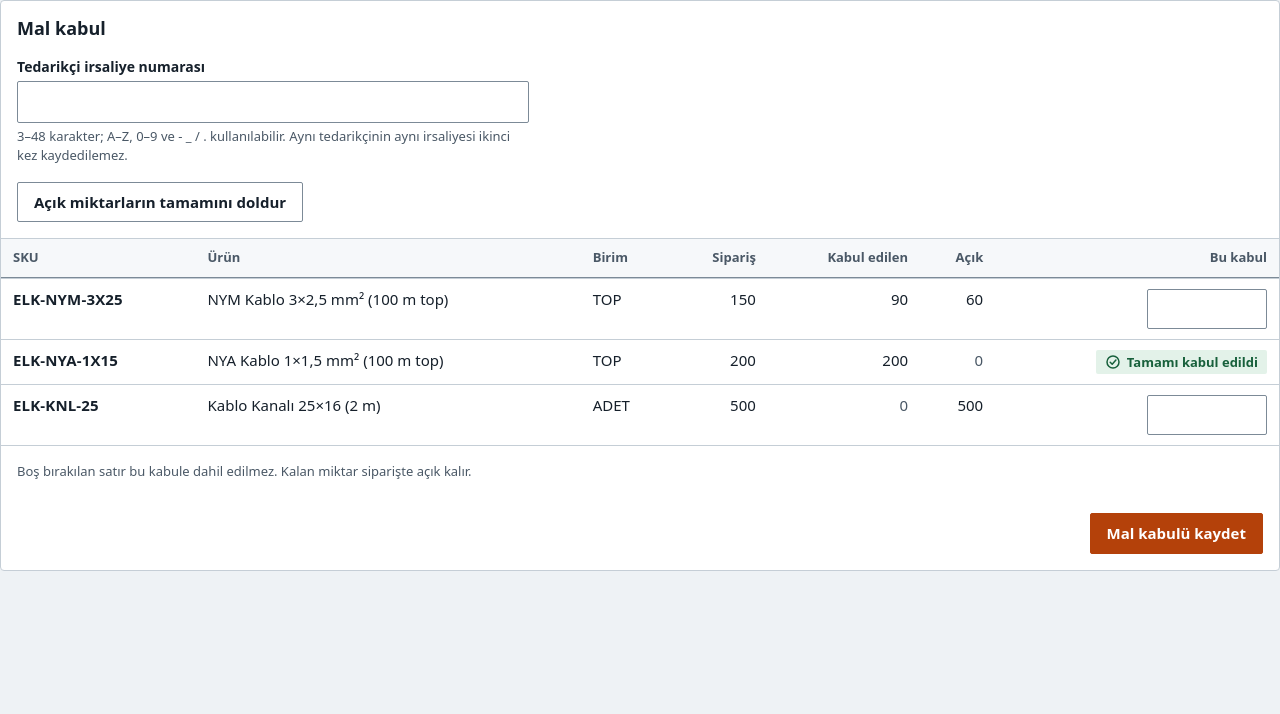
Test: mal kabul formu › sunucunun 409 exceeds_remaining yanıtını ilgili satıra eşler ve siparişi yeniden okutur
The image size is (1280, 714).
Type "AK-2026-12044" into the field labelled "Tedarikçi irsaliye numarası" at (273, 102), box [17, 80, 529, 122]
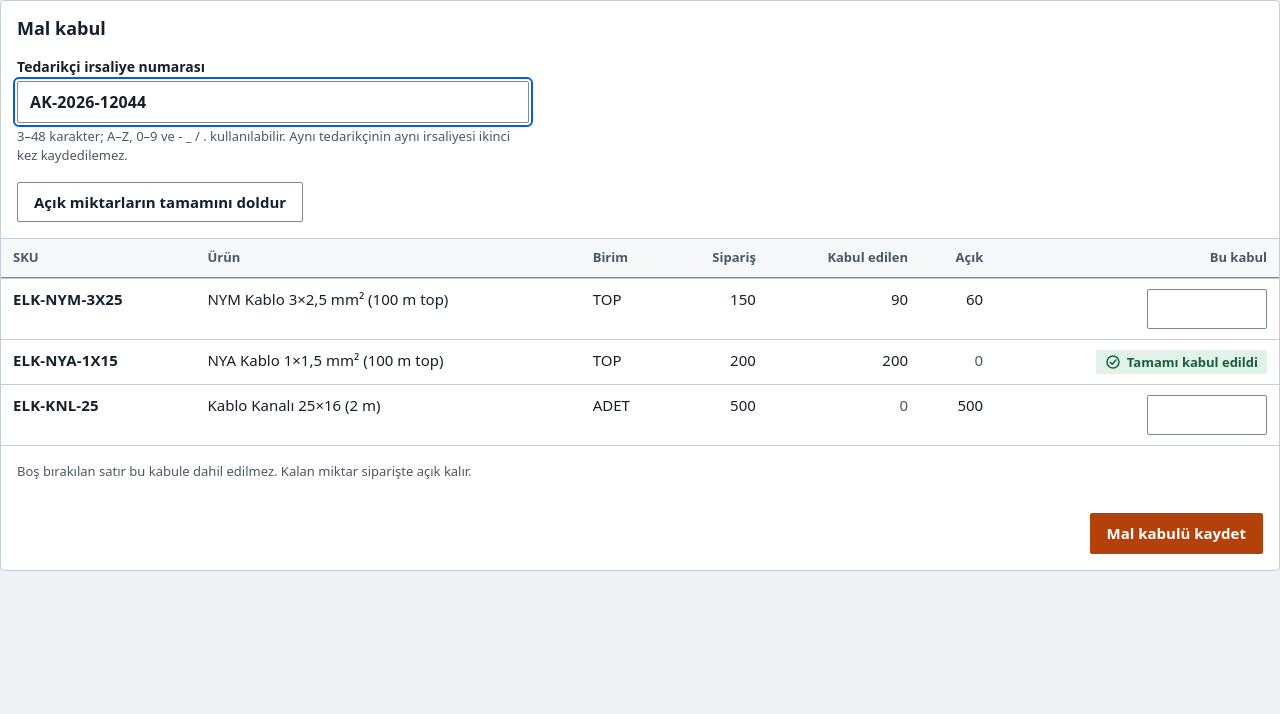
Type "60" into the field in the row of "ELK-NYM-3X25" at (1207, 308), box [1147, 288, 1267, 328]
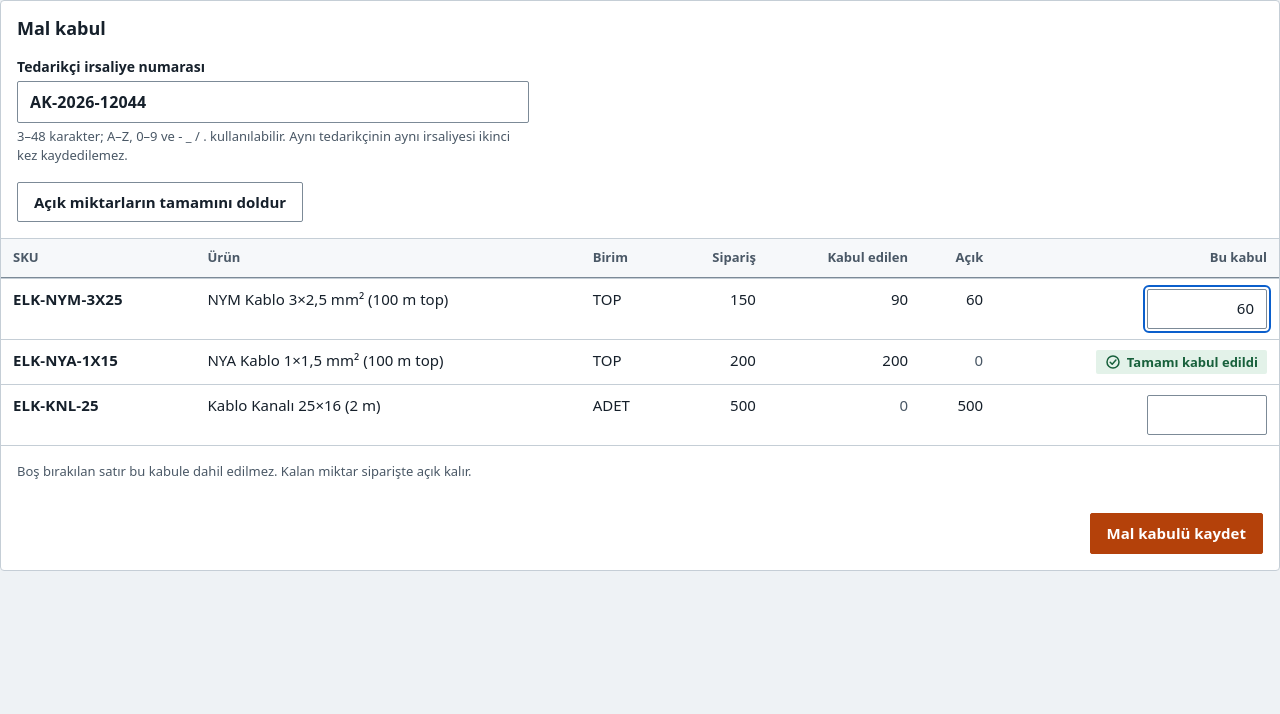
Type "500" into the field in the row of "ELK-KNL-25" at (1207, 415), box [1147, 395, 1267, 435]
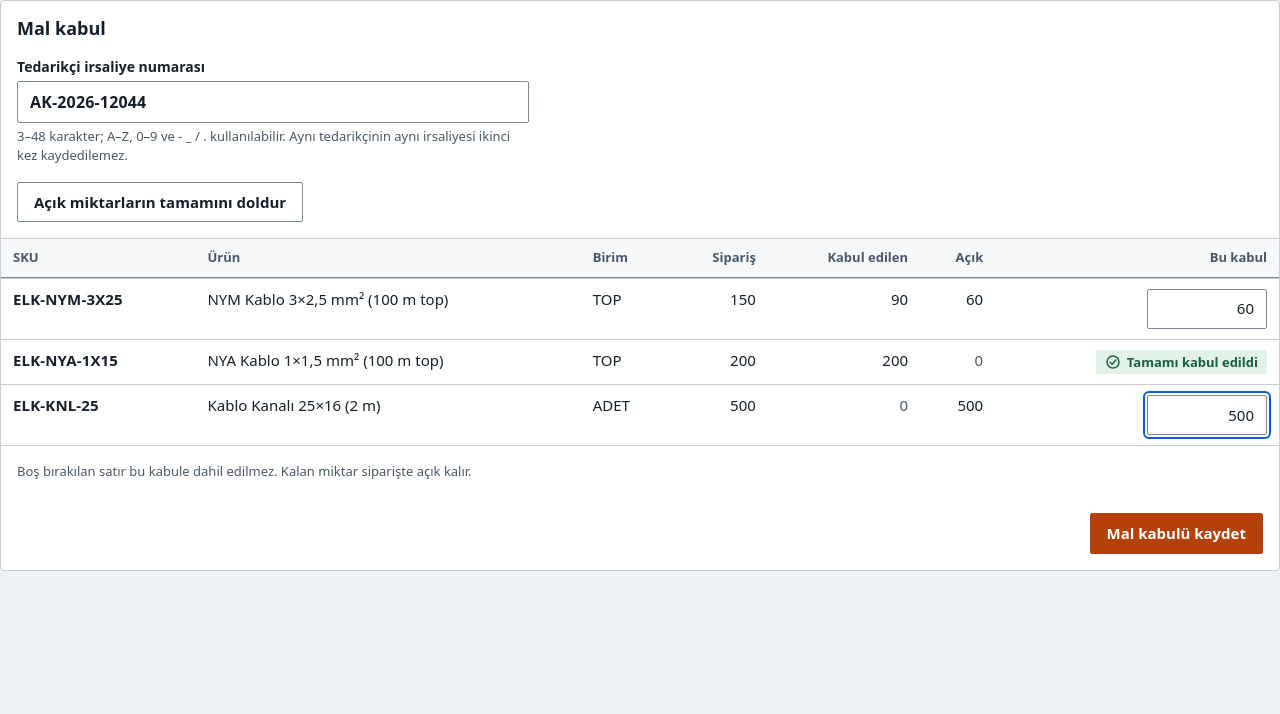
Click the button "Mal kabulü kaydet" at (1176, 534), box [1090, 513, 1263, 554]
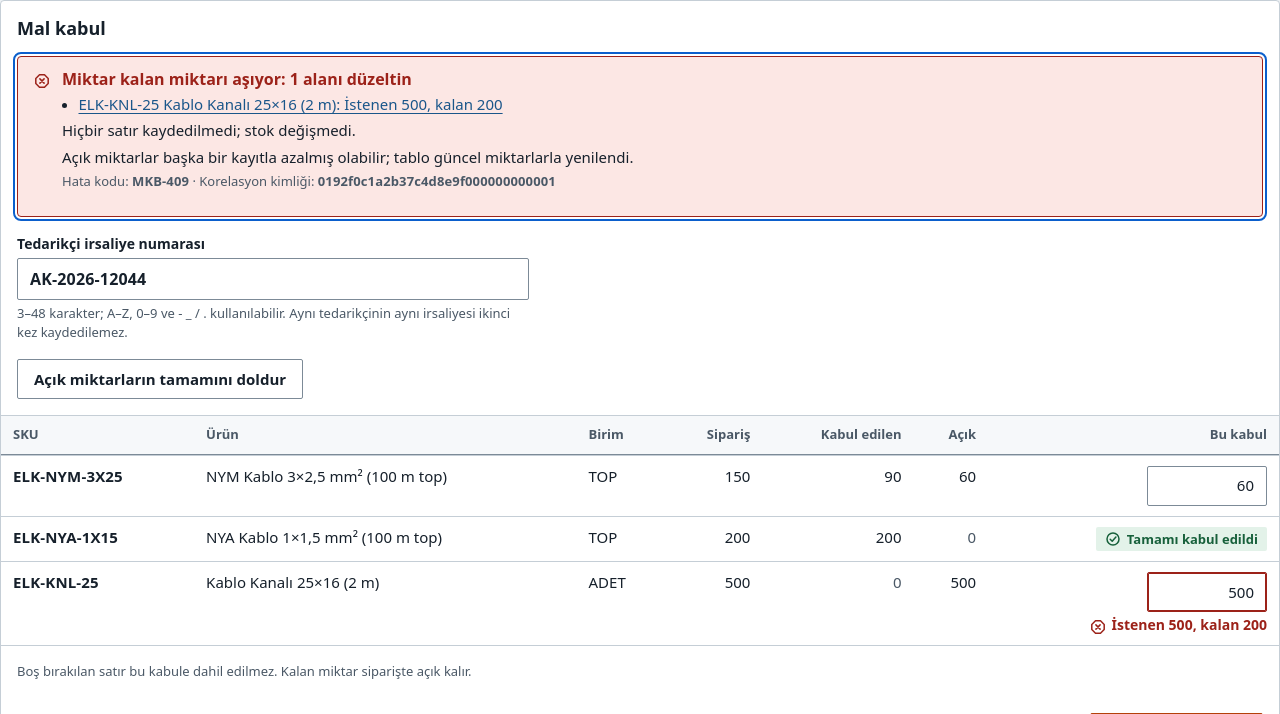
Expected: the link "ELK-KNL-25 Kablo Kanalı 25×16 (2 m): İstenen 500, kalan 200" is shown, [78, 94, 503, 114]
Expected: the element "Miktar kalan miktarı aşıyor: 1 alanı düzeltin" shows "MKB-409", [132, 172, 189, 190]
Expected: the element "Miktar kalan miktarı aşıyor: 1 alanı düzeltin" shows "0192f0c1a2b37c4d8e9f000000000001", [318, 172, 556, 190]
